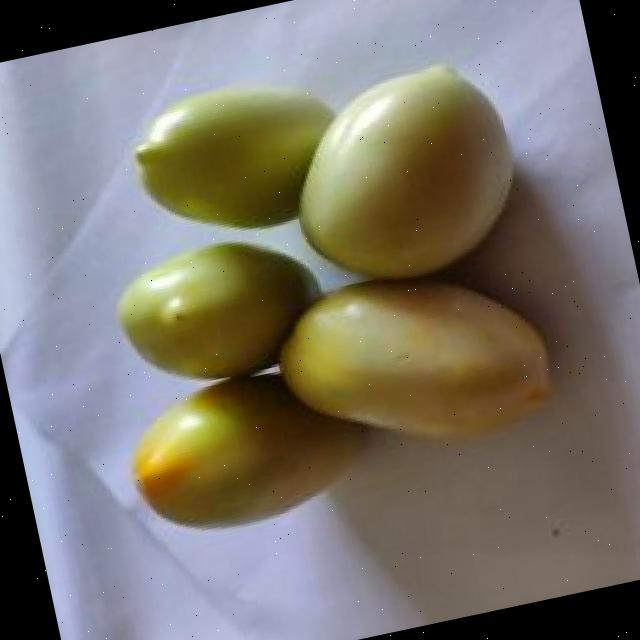tomato: (299, 63, 511, 277), (285, 275, 550, 434), (131, 367, 367, 529), (118, 239, 325, 381), (137, 83, 337, 225)
